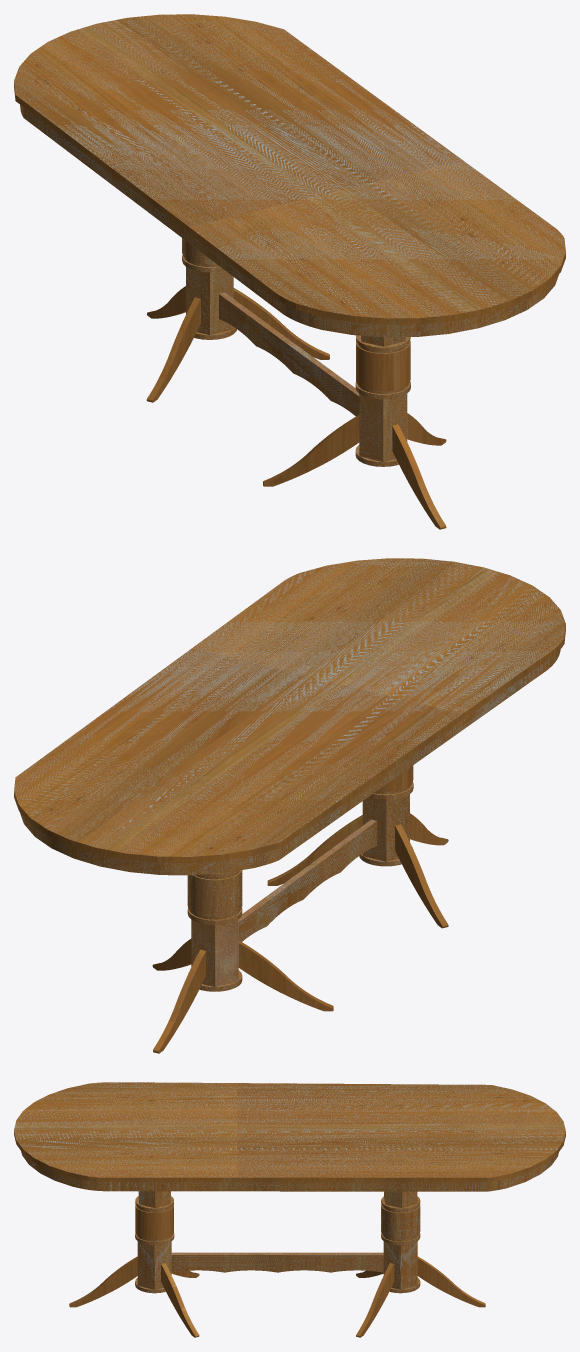
The picture shows the model from 3 angles, top to bottom: view 1: azimuth 30°, elevation 25°; view 2: azimuth 150°, elevation 25°; view 3: azimuth 270°, elevation 25°; orthographic projection. The views are drawn at different scales.
Visible parts, largest first — view 1: SketchUp (×12); view 2: SketchUp (×14); view 3: SketchUp (×15).
Boxes of the visible parts, <box> form: SketchUp (×12): <box>14,14,565,529</box>; SketchUp (×14): <box>14,558,565,1053</box>; SketchUp (×15): <box>14,1082,565,1337</box>.
Size of the model in its own units: 36.29 by 88.53 by 31.2.
Materials: 4 (2 with a texture image).
